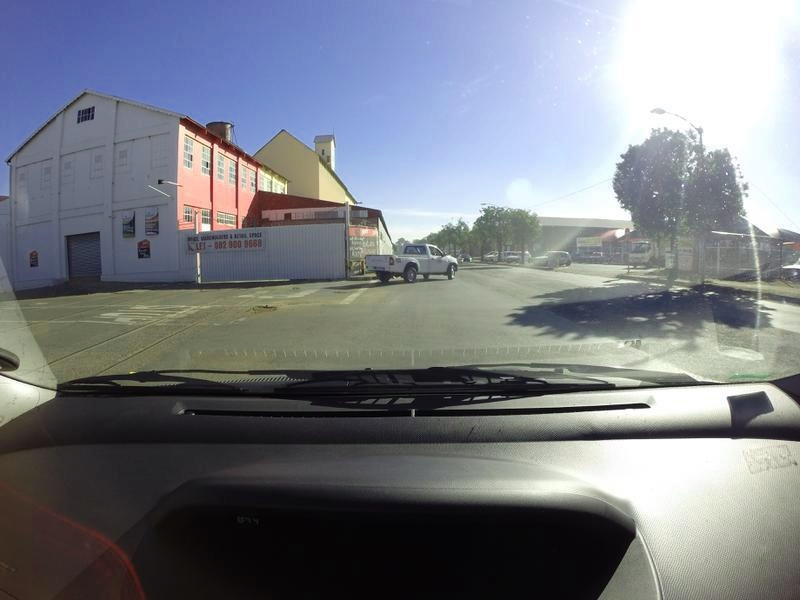pothole: (245, 296, 286, 321)
